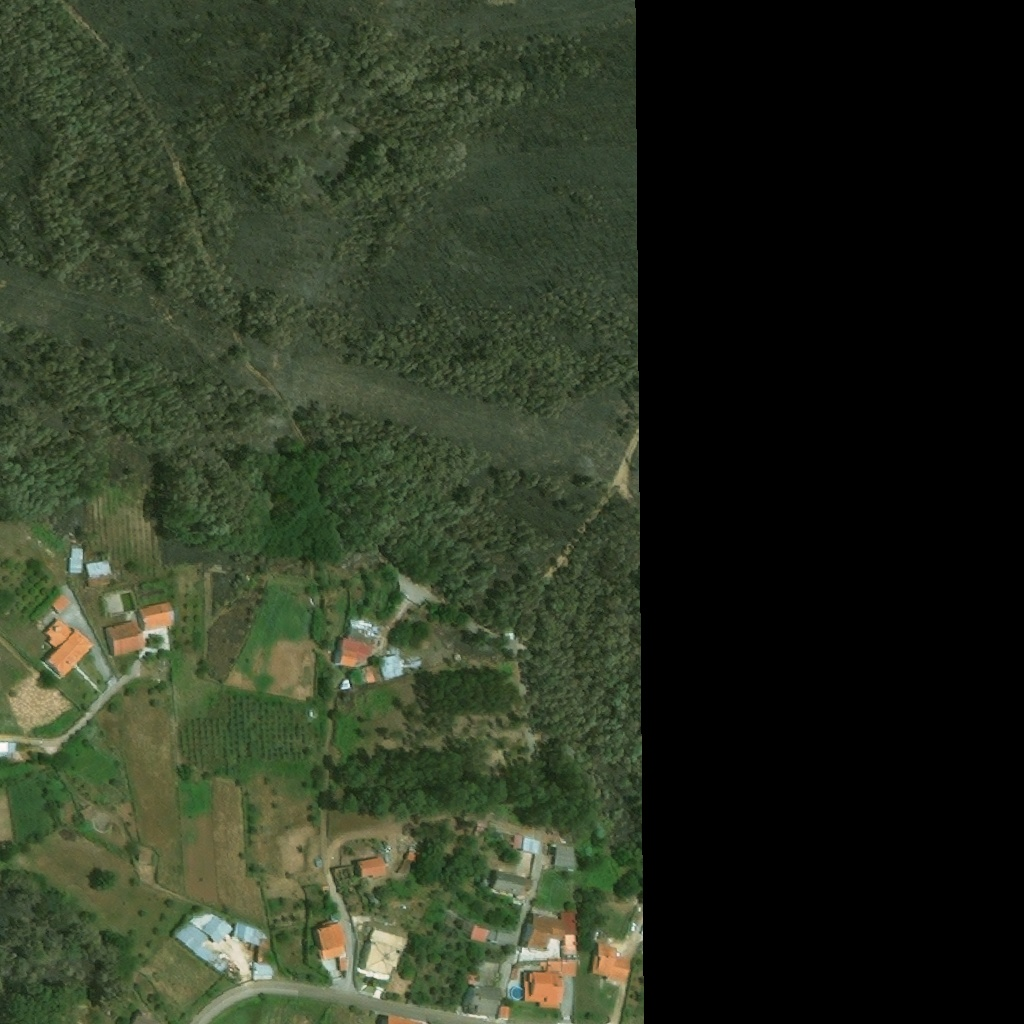0 no-damage: (45, 629, 95, 677), (593, 942, 631, 983), (527, 913, 565, 952), (105, 620, 146, 656), (524, 971, 562, 1007), (462, 984, 502, 1017), (333, 638, 373, 669), (366, 942, 401, 975), (470, 924, 517, 948), (138, 601, 174, 631), (42, 617, 73, 649), (175, 923, 208, 952), (194, 946, 227, 973), (317, 923, 346, 950), (493, 871, 526, 894), (232, 923, 263, 947), (378, 653, 405, 680), (371, 929, 404, 950), (358, 856, 388, 879), (540, 960, 576, 976), (86, 559, 113, 577), (211, 921, 233, 943), (555, 845, 576, 867), (201, 916, 223, 935), (68, 546, 84, 570), (522, 835, 541, 855), (193, 911, 215, 928), (322, 945, 346, 960), (398, 857, 416, 877), (51, 595, 71, 612), (561, 912, 577, 933), (0, 742, 18, 760), (254, 964, 272, 976), (510, 834, 522, 848), (524, 876, 533, 894), (498, 1005, 510, 1018), (407, 846, 417, 861), (369, 894, 381, 906), (338, 959, 348, 970), (466, 976, 475, 984), (316, 859, 323, 868)
3 destroyed: (502, 628, 524, 658), (347, 628, 378, 648), (348, 619, 379, 638)
